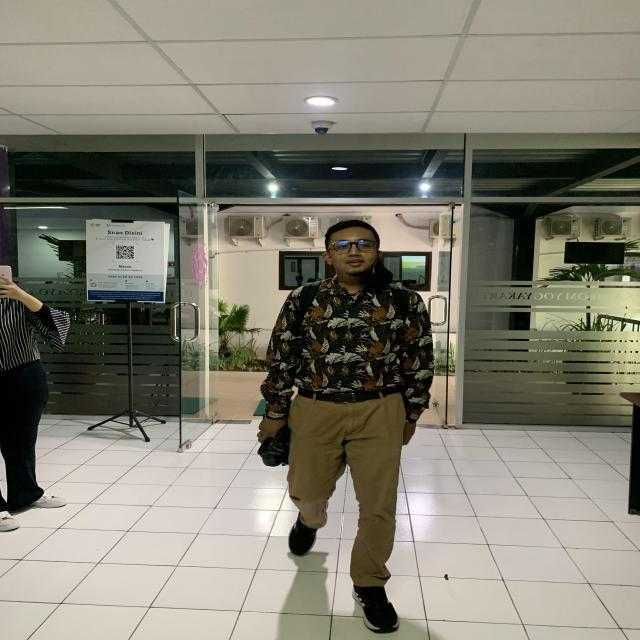hairnet: (322, 218, 392, 292)
